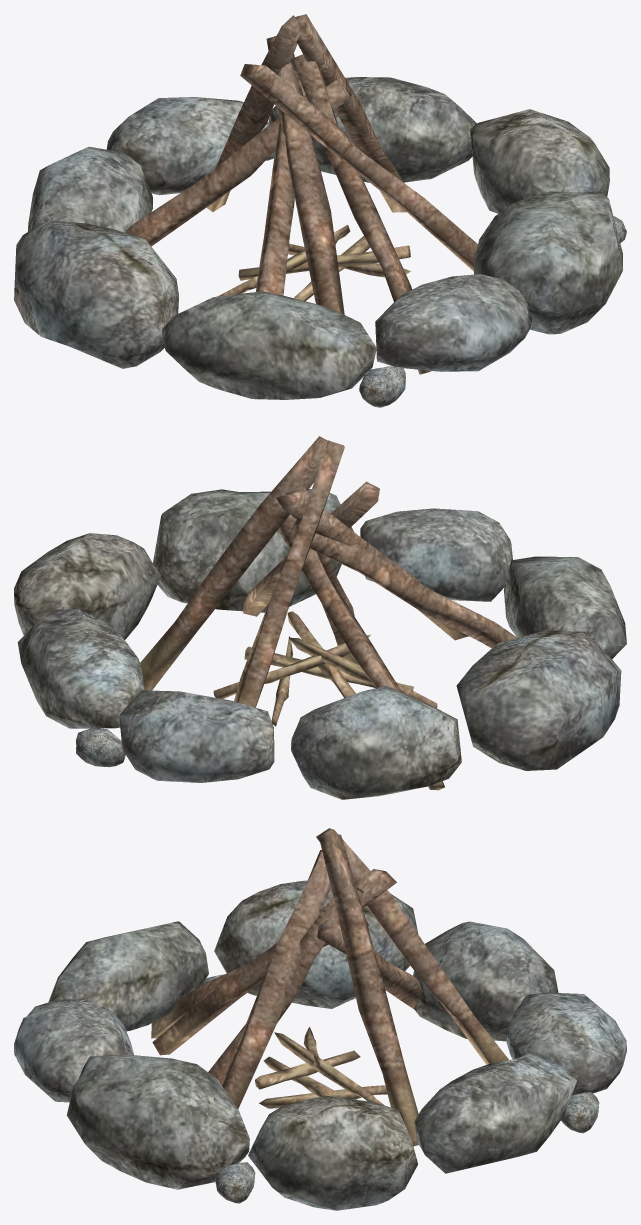
File: campfire.glb
The picture shows the model from 3 angles, top to bottom: view 1: azimuth 30°, elevation 25°; view 2: azimuth 150°, elevation 25°; view 3: azimuth 270°, elevation 25°; orthographic projection. The views are drawn at different scales.
Visible parts, largest first — view 1: Koster_low_Koster1_0; view 2: Koster_low_Koster1_0; view 3: Koster_low_Koster1_0.
Part boxes in pixels (x1,y1,x2,y2): Koster_low_Koster1_0: [14, 14, 626, 407]; Koster_low_Koster1_0: [14, 436, 626, 799]; Koster_low_Koster1_0: [14, 828, 626, 1210].
Bounding box in the file's own units: 1.33 × 0.7051 × 1.3.
1 material, 1 textured.
